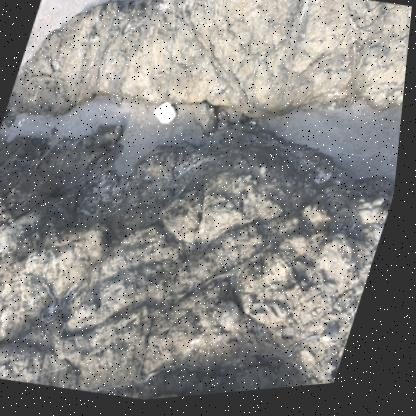Waste: (157, 105, 179, 127)
